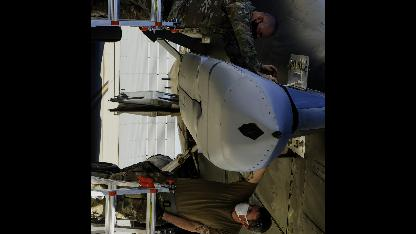AV8B: (92, 0, 325, 233)
